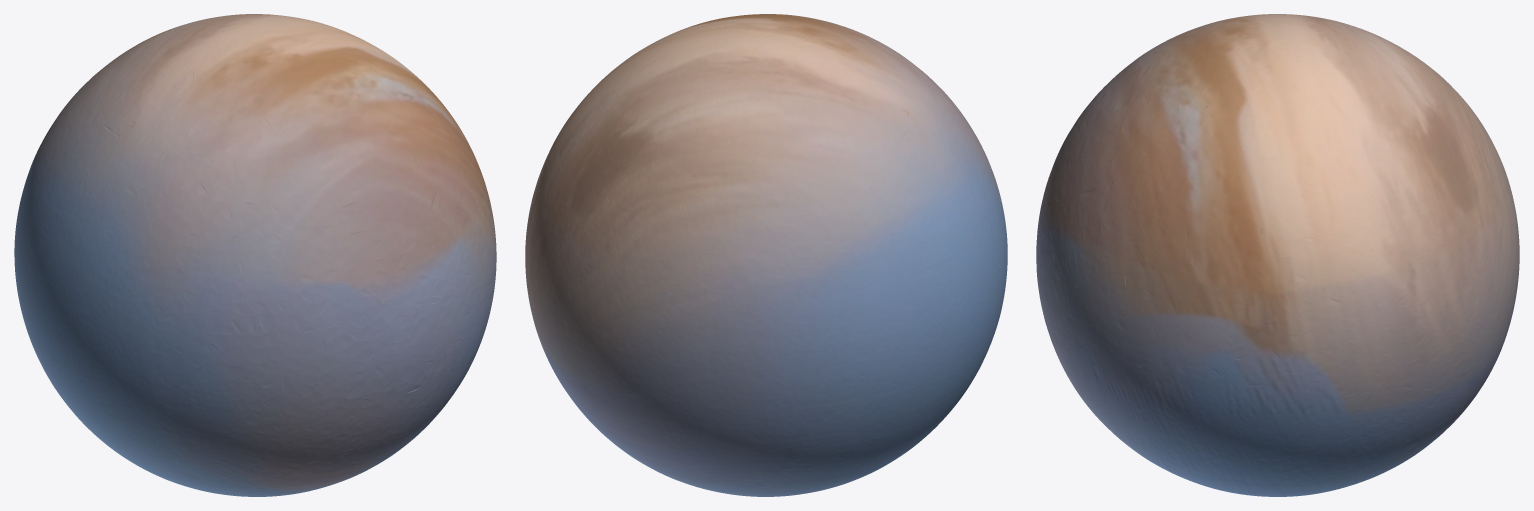
The model's file is planet_2.glb.
3 views of the same model, side by side, from view 1: azimuth 30°, elevation 25°; view 2: azimuth 150°, elevation 25°; view 3: azimuth 270°, elevation 25° (orthographic).
Parts seen in each view (by area): view 1: geometry_0; view 2: geometry_0; view 3: geometry_0.
Part boxes in pixels (bbox=[...]): geometry_0: bbox=[14, 14, 496, 496]; geometry_0: bbox=[525, 14, 1007, 496]; geometry_0: bbox=[1036, 14, 1519, 496].
Bounding box in the file's own units: 0.2476 × 0.2488 × 0.2487.
Materials: 1 (1 with a texture image).
